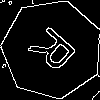R: (27, 24, 86, 81)
